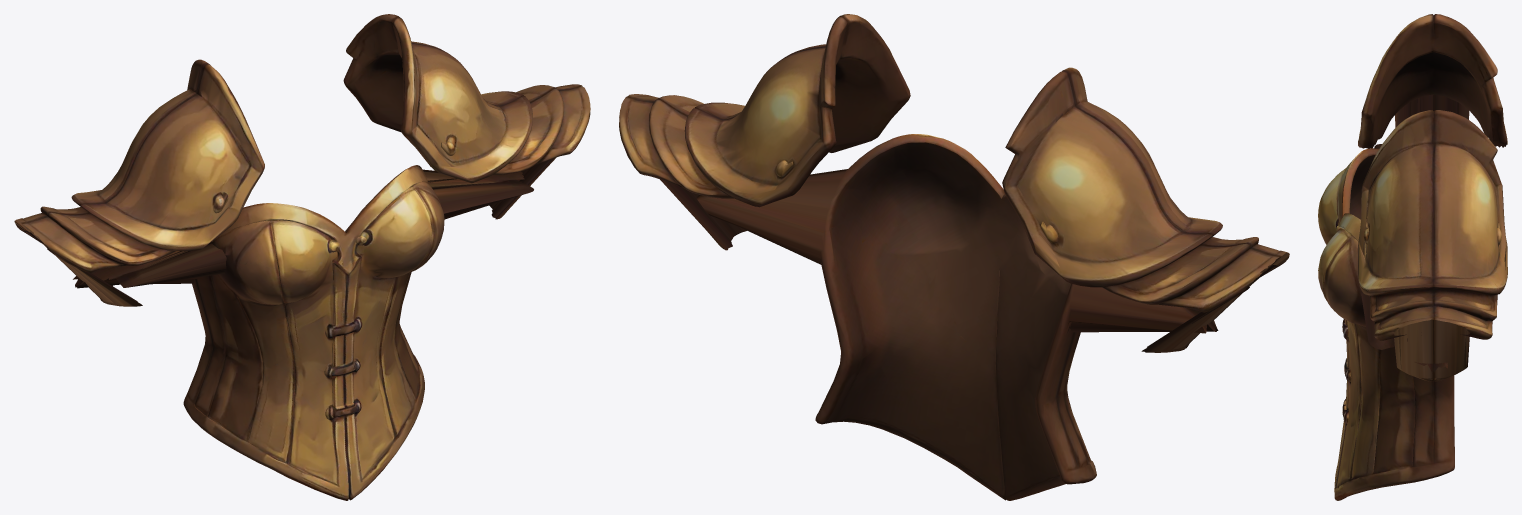
File: berserk_f_cuirass.glb
3 views of the same model, side by side, from view 1: azimuth 30°, elevation 25°; view 2: azimuth 150°, elevation 25°; view 3: azimuth 270°, elevation 25° (orthographic). The views are drawn at different scales.
Parts seen in each view (by area): view 1: model; view 2: model; view 3: model.
Boxes of the visible parts, bbox=[...] form: model: bbox=[14, 14, 590, 500]; model: bbox=[619, 14, 1289, 500]; model: bbox=[1318, 14, 1507, 500].
Bounding box in the file's own units: 0.7309 × 0.53 × 0.2083.
1 material, 1 textured.
